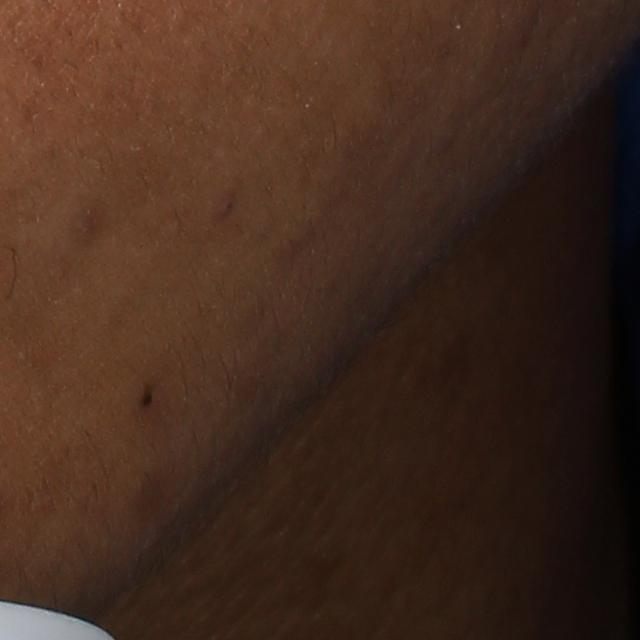nevus: (135, 387, 157, 409)
